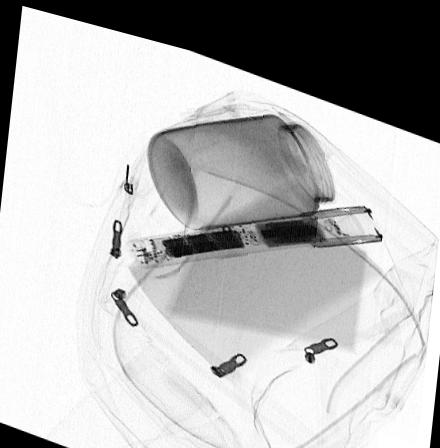Baton: (120, 184, 386, 262)
